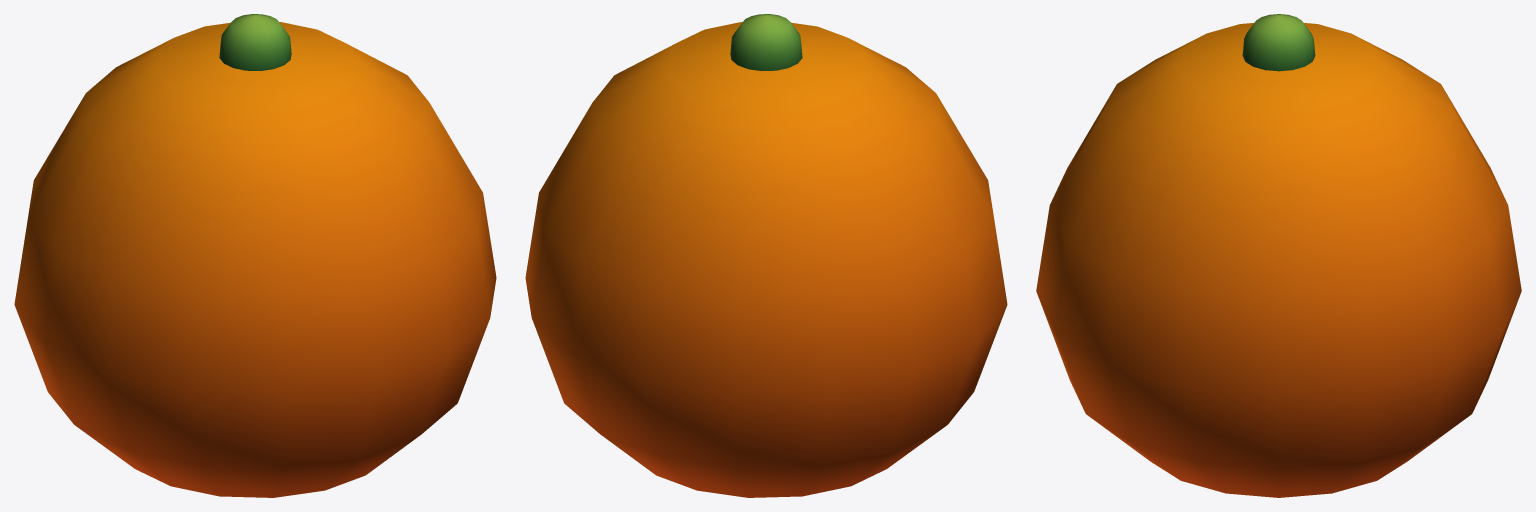
File: Orange_02.glb
3 renders of one model, left to right at view 1: azimuth 30°, elevation 25°; view 2: azimuth 150°, elevation 25°; view 3: azimuth 270°, elevation 25°, orthographic.
Visible parts, largest first — view 1: Orange_02; view 2: Orange_02; view 3: Orange_02.
Part boxes in pixels (bbox=[...]): Orange_02: bbox=[14, 14, 496, 497]; Orange_02: bbox=[525, 14, 1007, 497]; Orange_02: bbox=[1036, 14, 1521, 497].
Size of the model in its own units: 0.1951 by 0.2036 by 0.1951.
Materials: 1 (1 with a texture image).
